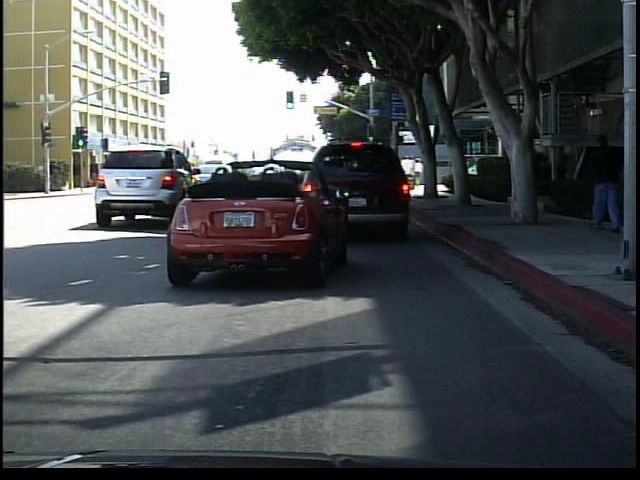person: (583, 131, 623, 238), (513, 143, 544, 224)
